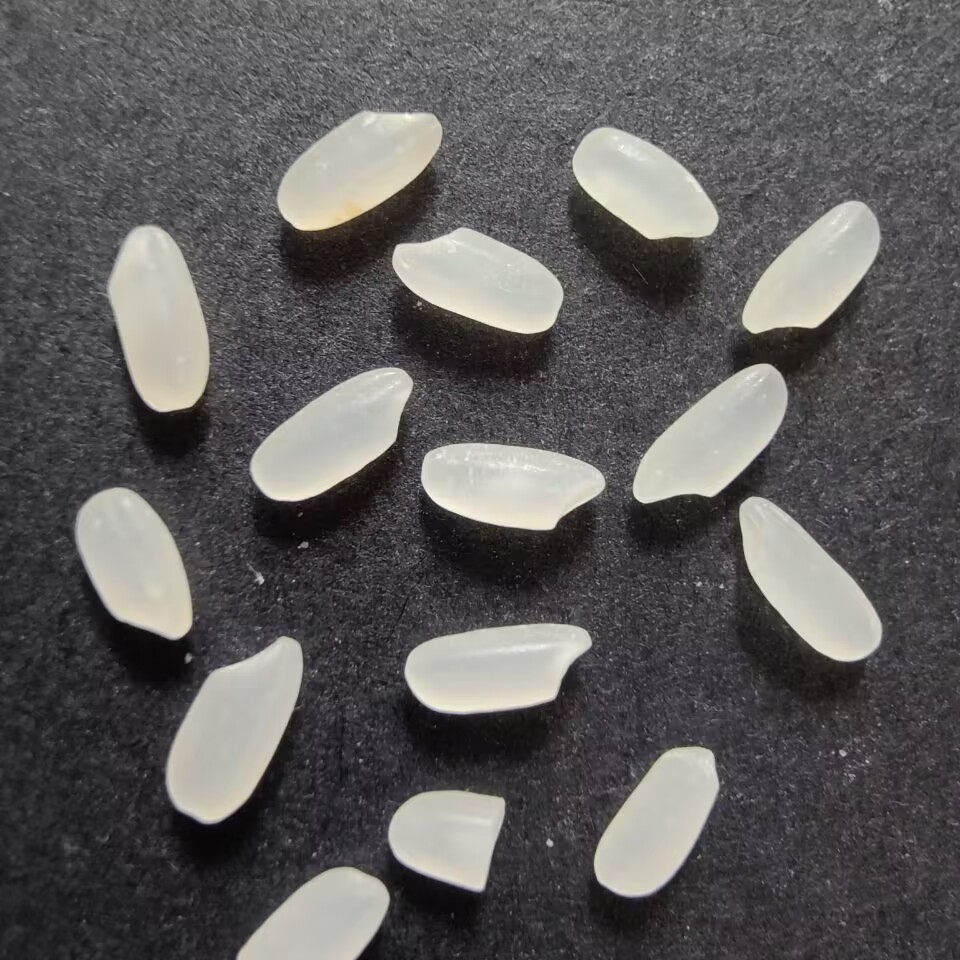broken: (382, 781, 515, 897)
rice: (161, 631, 305, 831), (735, 493, 887, 665), (628, 357, 793, 509), (246, 363, 415, 506), (272, 102, 446, 237), (734, 194, 886, 343), (102, 220, 213, 421), (399, 616, 601, 725), (69, 483, 200, 644), (590, 743, 725, 897), (387, 224, 568, 337), (415, 438, 613, 535), (567, 124, 726, 244), (228, 864, 392, 959)
